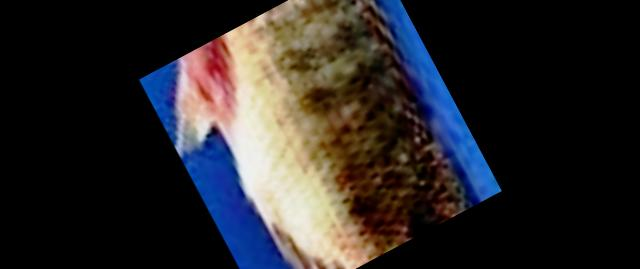Tilapia Lake Virus -TiLV-: (177, 0, 473, 269)
